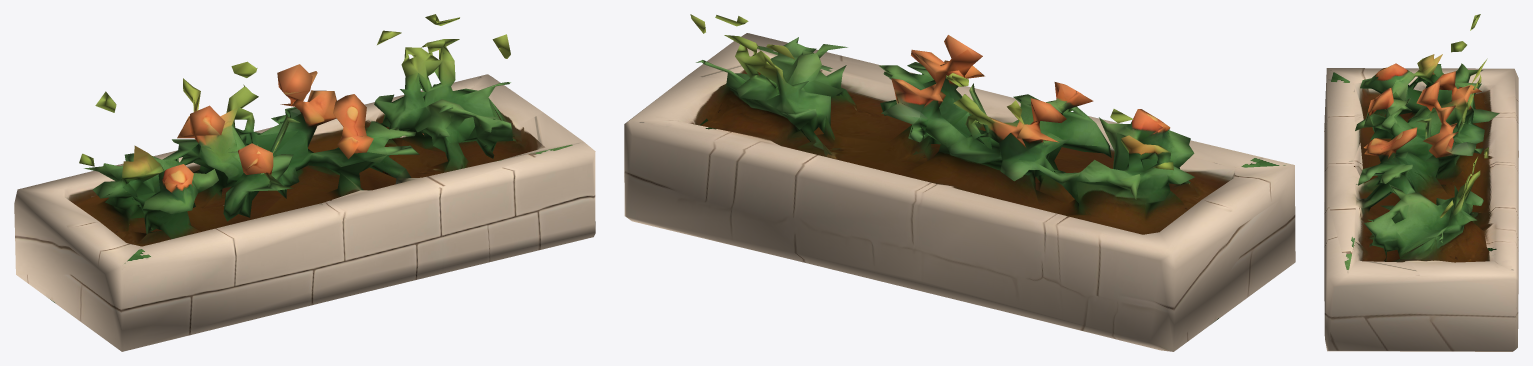
The picture shows the model from 3 angles, left to right: view 1: azimuth 30°, elevation 25°; view 2: azimuth 150°, elevation 25°; view 3: azimuth 270°, elevation 25°; orthographic projection. The views are drawn at different scales.
Visible parts, largest first — view 1: quad; view 2: quad; view 3: quad.
Part boxes in pixels (box(x1,y1,x2,y2)): quad: box(14, 14, 595, 351); quad: box(624, 14, 1295, 351); quad: box(1324, 14, 1518, 351).
Bounding box in the file's own units: 300 × 112 × 118.
1 material, 1 textured.
